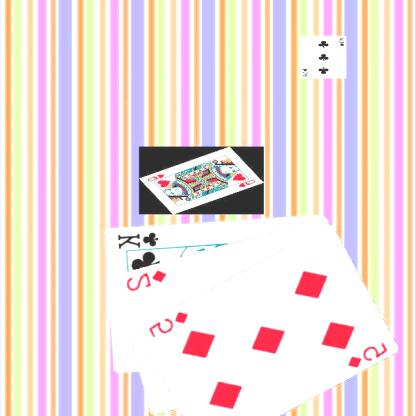2D: (124, 267, 170, 293)
5D: (147, 309, 191, 339), (346, 339, 390, 369)
KC: (116, 229, 166, 254)
